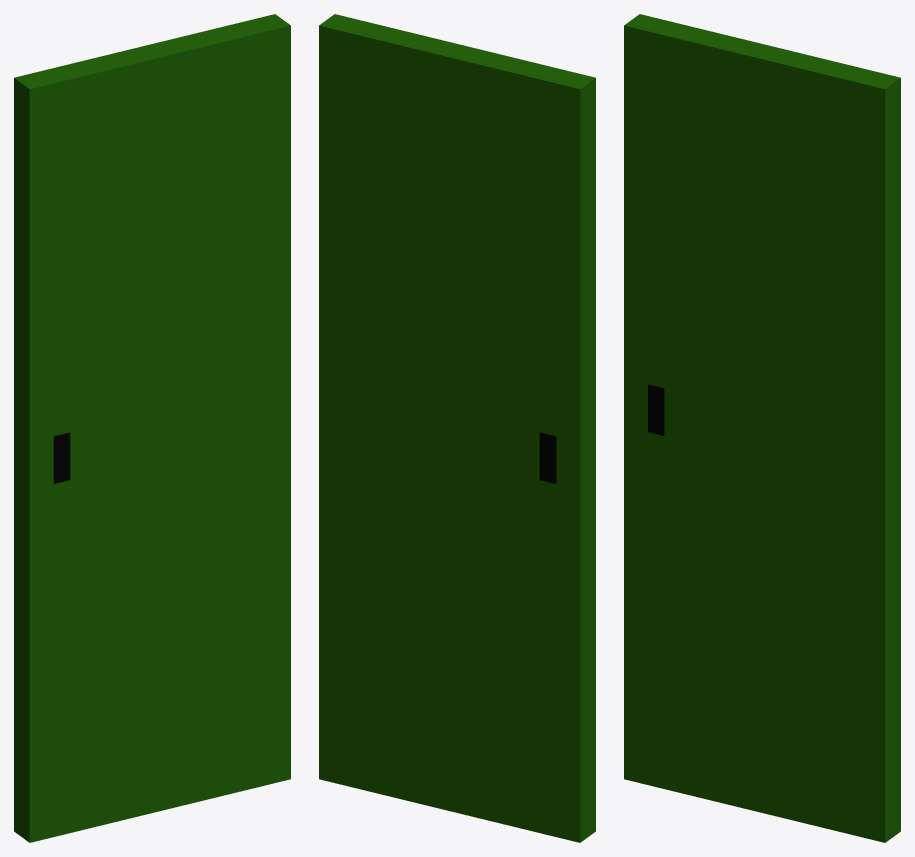
The model's file is StallDoor.fbx.
3 views of the same model, side by side, from view 1: azimuth 30°, elevation 25°; view 2: azimuth 150°, elevation 25°; view 3: azimuth 330°, elevation 25° (orthographic).
Parts seen in each view (by area): view 1: Stall Door; view 2: Stall Door; view 3: Stall Door.
Boxes of the visible parts, x1,y1,x2,y2 form: Stall Door: (14,14,290,842); Stall Door: (319,14,595,842); Stall Door: (624,14,900,842).
Size of the model in its own units: 281 by 774 by 29.28.
